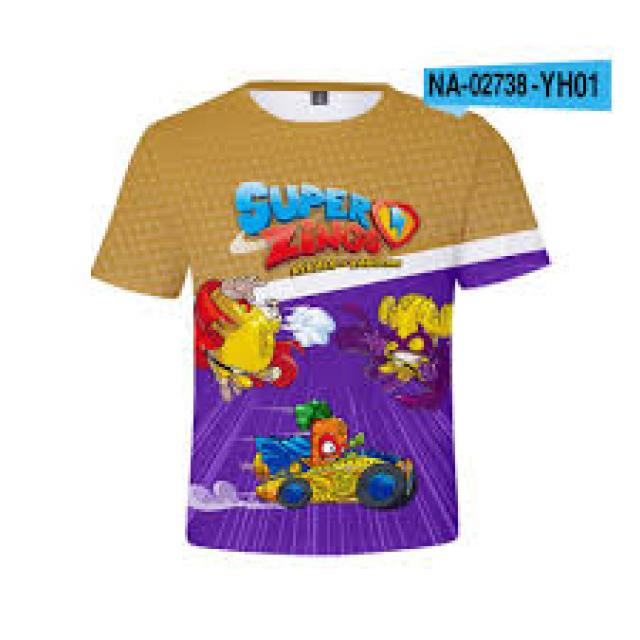Shirt: (78, 64, 552, 576)
